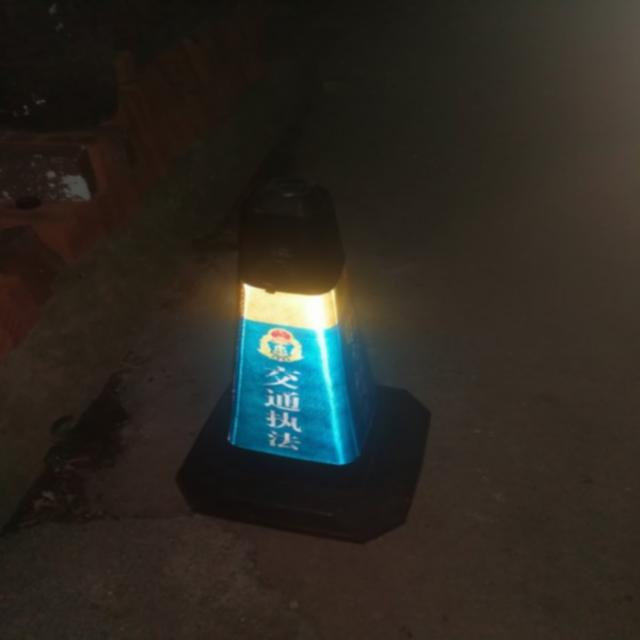reflective_cone: (185, 177, 435, 540)
